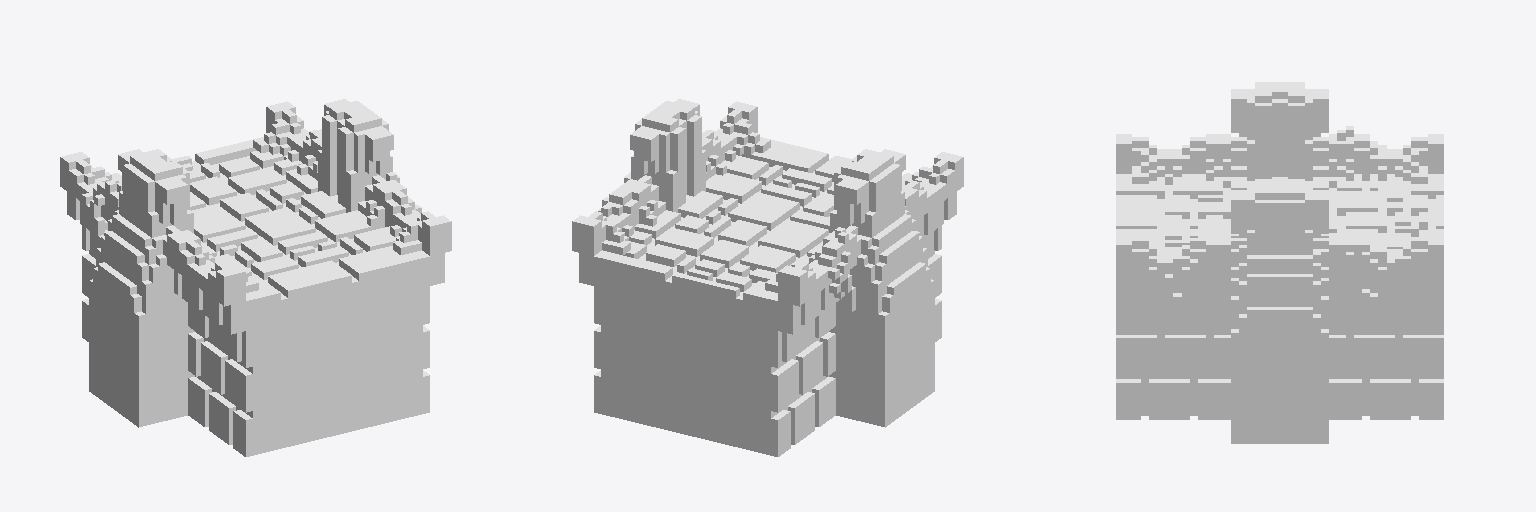
The model's file is Straight_Temple.obj.
The picture shows the model from 3 angles: view 1: azimuth 30°, elevation 25°; view 2: azimuth 150°, elevation 25°; view 3: azimuth 270°, elevation 25°; orthographic projection.
Bounding box in the file's own units: 40 × 32 × 40.